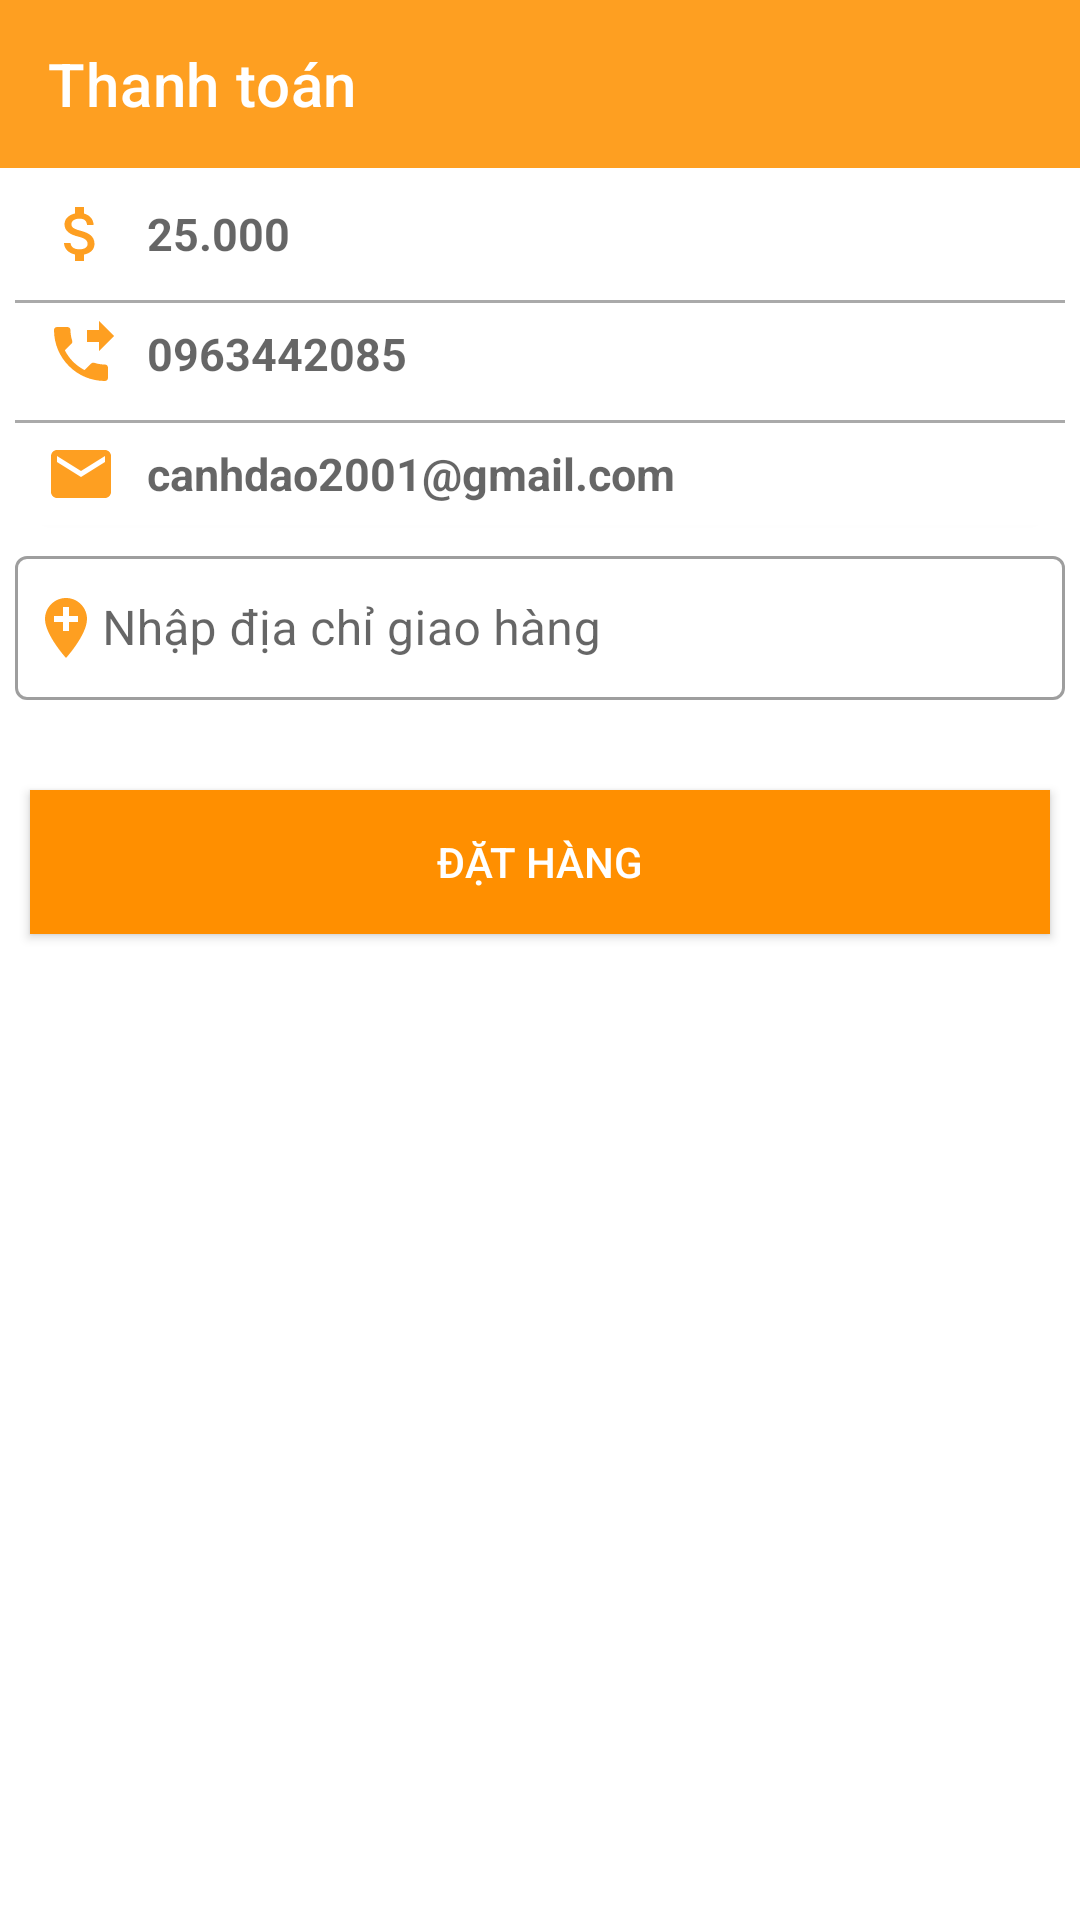

Icon click points for this 1080w x 1920h phone screenshot, format [x,y]:
email thanhtoan: [81,474]
money: [79,234]
phone: [84,351]
